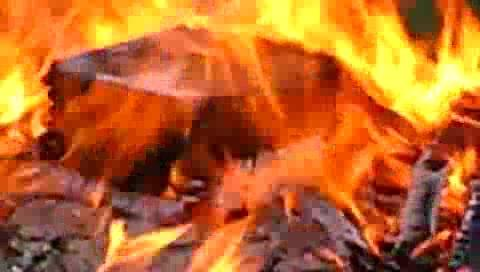fire: (7, 6, 459, 154)
